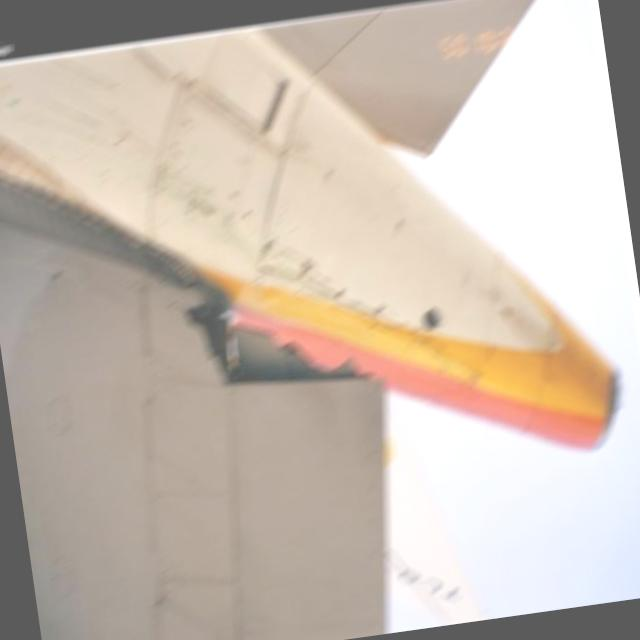crack: (168, 268, 373, 406)
